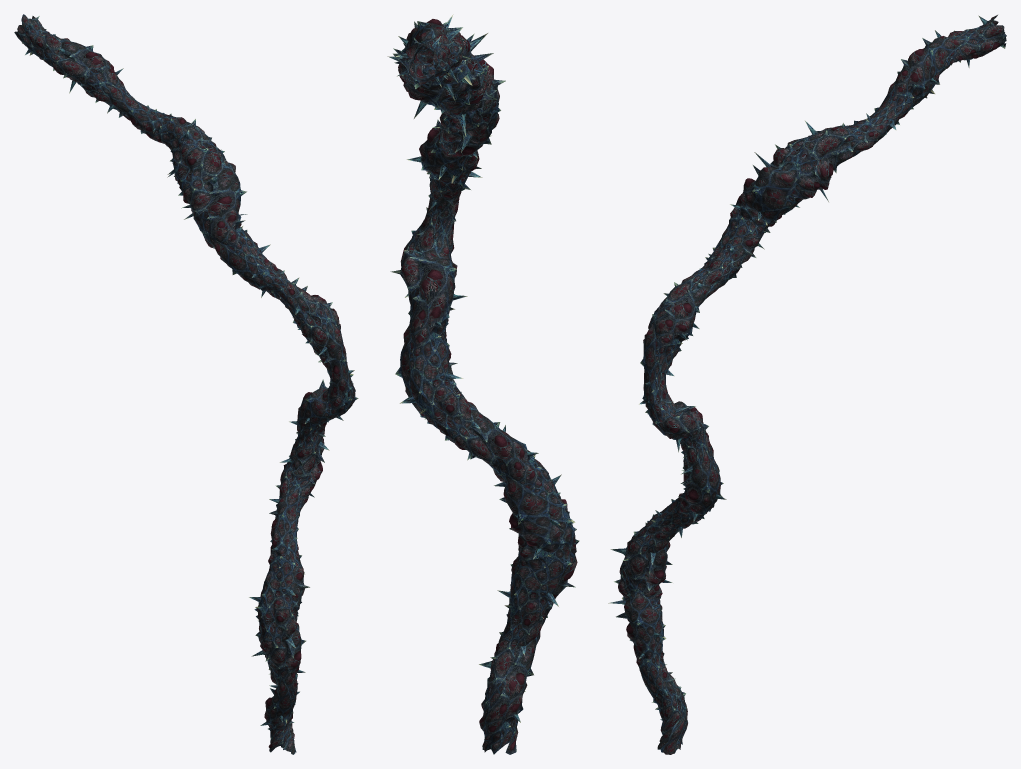
File: L03_Heltree22.fbx
3 views of the same model, side by side, from view 1: azimuth 30°, elevation 25°; view 2: azimuth 150°, elevation 25°; view 3: azimuth 270°, elevation 25° (orthographic). The views are drawn at different scales.
Parts seen in each view (by area): view 1: LODGroup_1_MainMesh_1_SubMesh_1, LODGroup_1_MainMesh_1_SubMesh_2; view 2: LODGroup_1_MainMesh_1_SubMesh_1, LODGroup_1_MainMesh_1_SubMesh_2; view 3: LODGroup_1_MainMesh_1_SubMesh_1, LODGroup_1_MainMesh_1_SubMesh_2.
Boxes of the visible parts, x1,y1,x2,y2 form: LODGroup_1_MainMesh_1_SubMesh_1: (25, 16, 354, 754); LODGroup_1_MainMesh_1_SubMesh_2: (14, 14, 358, 752); LODGroup_1_MainMesh_1_SubMesh_1: (387, 14, 575, 752); LODGroup_1_MainMesh_1_SubMesh_2: (394, 21, 579, 754); LODGroup_1_MainMesh_1_SubMesh_1: (608, 15, 1006, 754); LODGroup_1_MainMesh_1_SubMesh_2: (614, 15, 1006, 744).
Size of the model in its own units: 1054 by 3622 by 1917.
